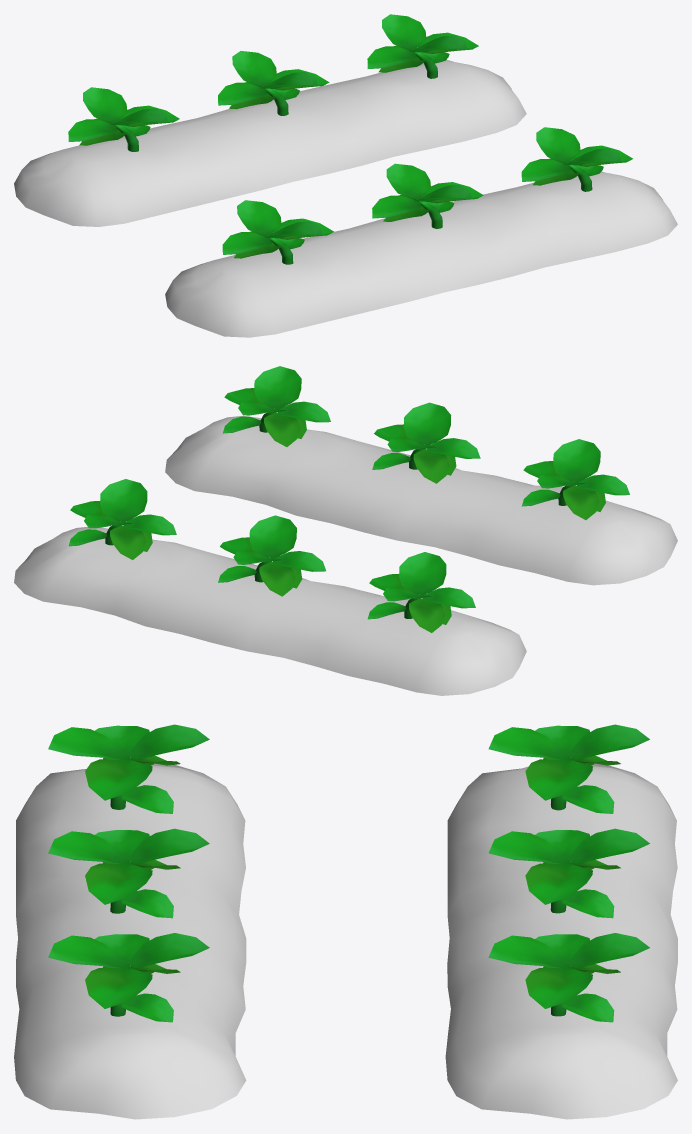
The model's file is potato3.fbx.
The picture shows the model from 3 angles, top to bottom: view 1: azimuth 30°, elevation 25°; view 2: azimuth 150°, elevation 25°; view 3: azimuth 270°, elevation 25°; orthographic projection. The views are drawn at different scales.
Visible parts, largest first — view 1: Circle.002, Plane.002; view 2: Circle.002, Plane.002; view 3: Circle.002, Plane.002.
Part boxes in pixels (x1,y1,x2,y2): Circle.002: [14, 59, 677, 337]; Plane.002: [68, 14, 632, 264]; Circle.002: [14, 415, 677, 695]; Plane.002: [68, 366, 629, 632]; Circle.002: [14, 763, 677, 1119]; Plane.002: [48, 724, 649, 1022].
Size of the model in its own units: 696 by 109 by 576.
